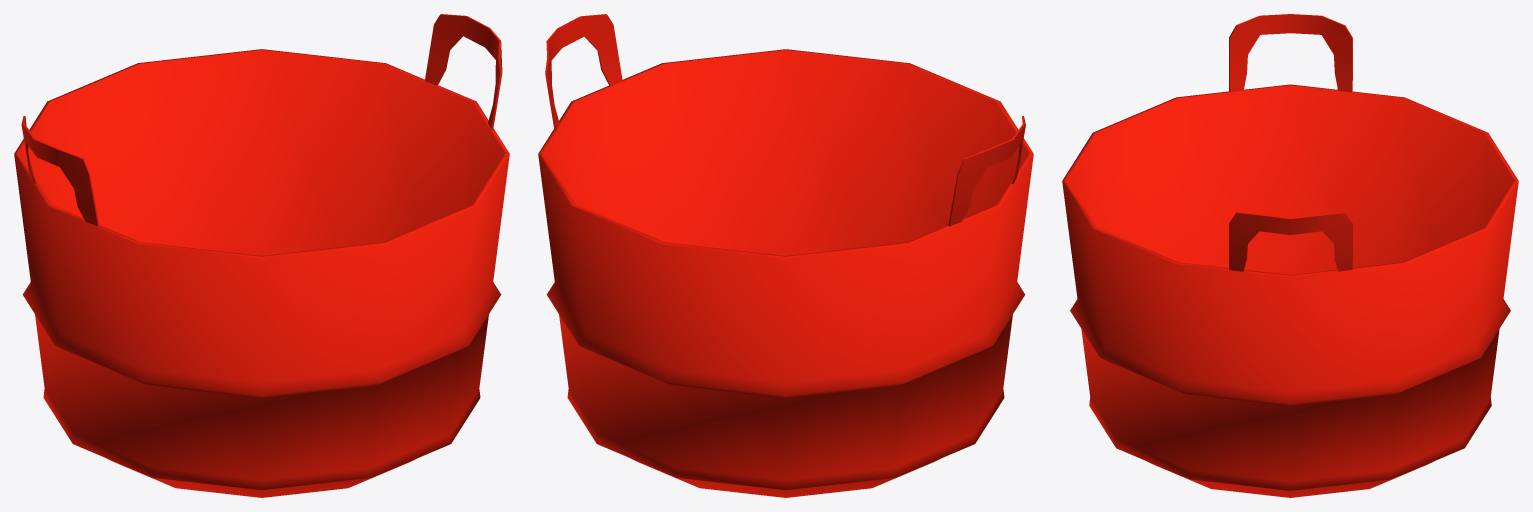
The model's file is Laundry_Tub_C.FBX.
3 views of the same model, side by side, from view 1: azimuth 30°, elevation 25°; view 2: azimuth 150°, elevation 25°; view 3: azimuth 270°, elevation 25° (orthographic). The views are drawn at different scales.
Visible parts, largest first — view 1: Laundry_Tub; view 2: Laundry_Tub; view 3: Laundry_Tub.
Boxes of the visible parts, x1=… form: Laundry_Tub: x1=14, y1=14, x2=509, y2=497; Laundry_Tub: x1=538, y1=14, x2=1033, y2=497; Laundry_Tub: x1=1062, y1=14, x2=1518, y2=497.
Bounding box in the file's own units: 102 × 73.29 × 96.11.
